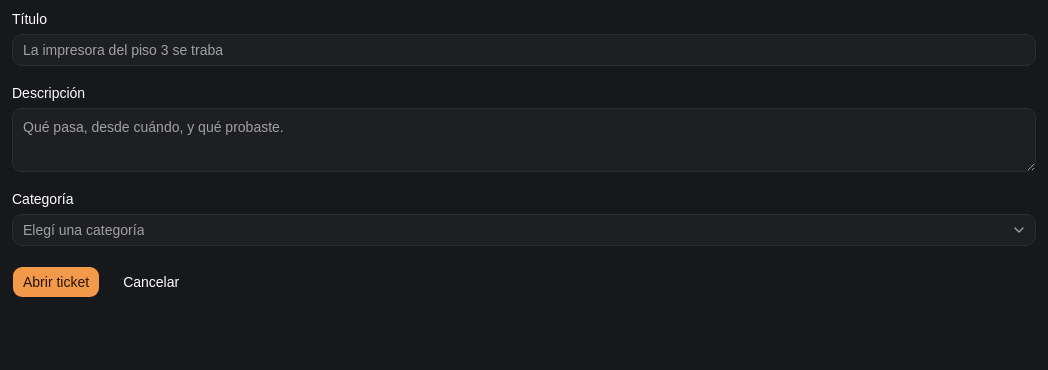
Test case: TicketForm › shows what the API said when the submission is rejected
Type "Printer jammed" into the field labelled "Título". click: {"x": 524, "y": 50}
box: x1=12 y1=34 x2=1036 y2=66
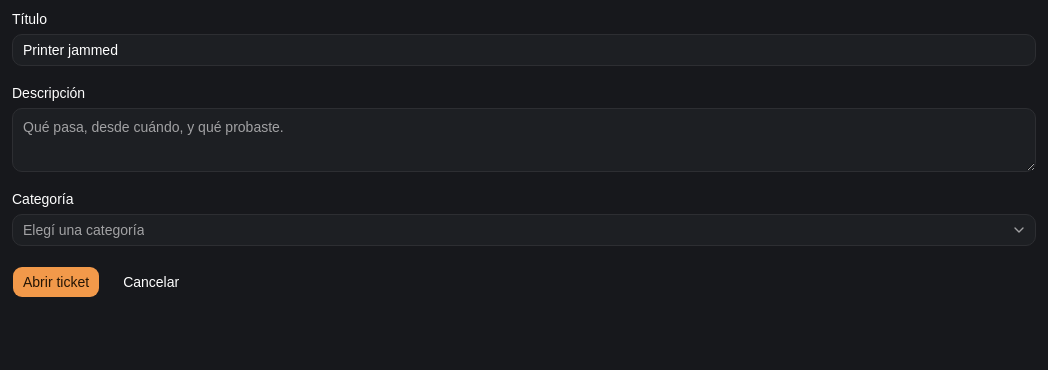
Type "On floor 3" into the text box labelled "Descripción". click: {"x": 524, "y": 140}
box: x1=12 y1=108 x2=1036 y2=172
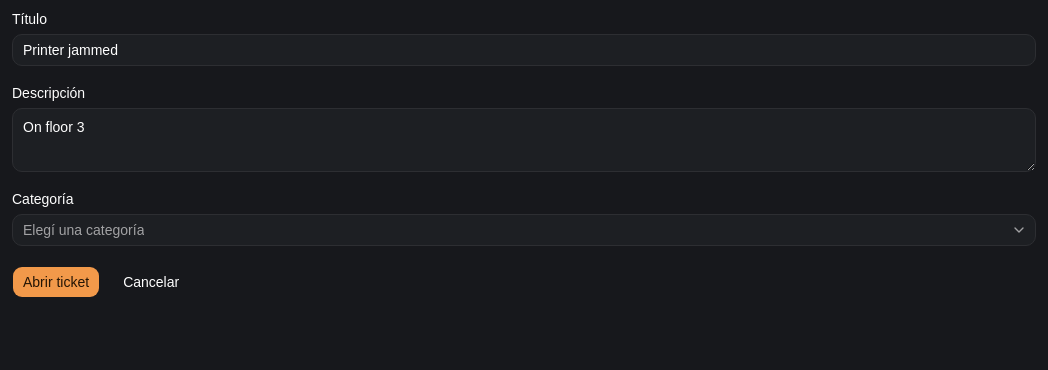
Click the dropdown labelled "categoría". click: {"x": 84, "y": 230}
box: x1=12 y1=214 x2=1036 y2=246
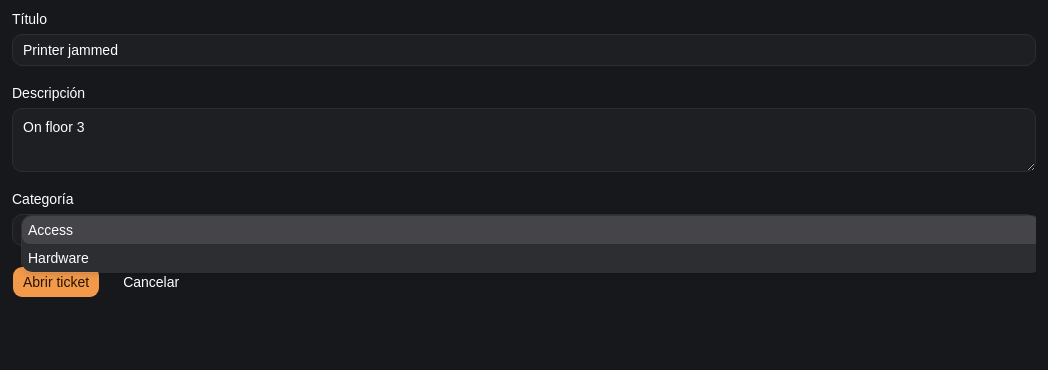
Click the option "Access". click: {"x": 51, "y": 230}
box: x1=22 y1=216 x2=1036 y2=244
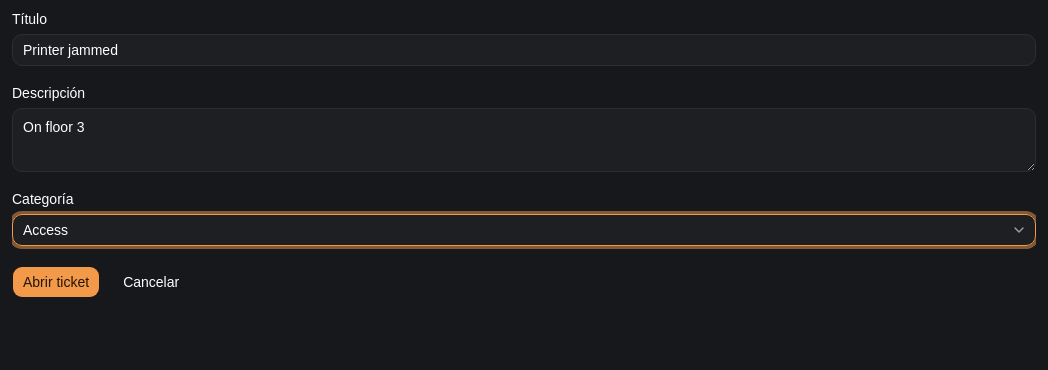
Click the button "Abrir ticket". click: {"x": 56, "y": 282}
box: x1=12 y1=266 x2=100 y2=298
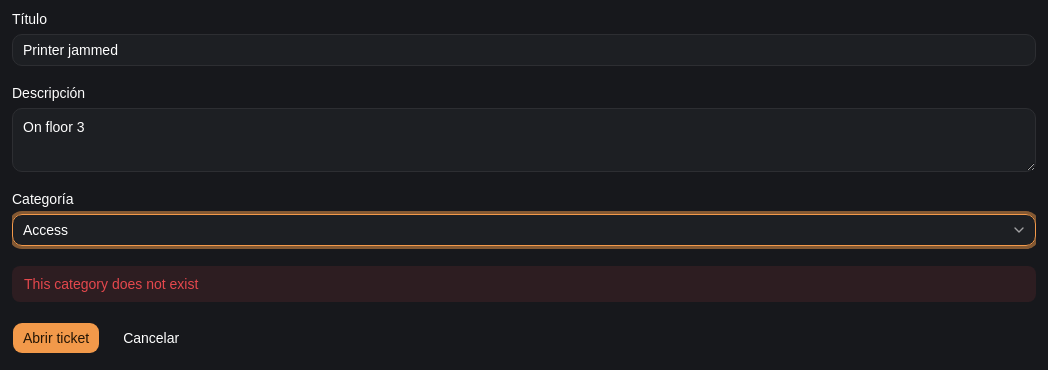
Expected: the text "This category does not exist" is shown, x1=12 y1=266 x2=1036 y2=302
